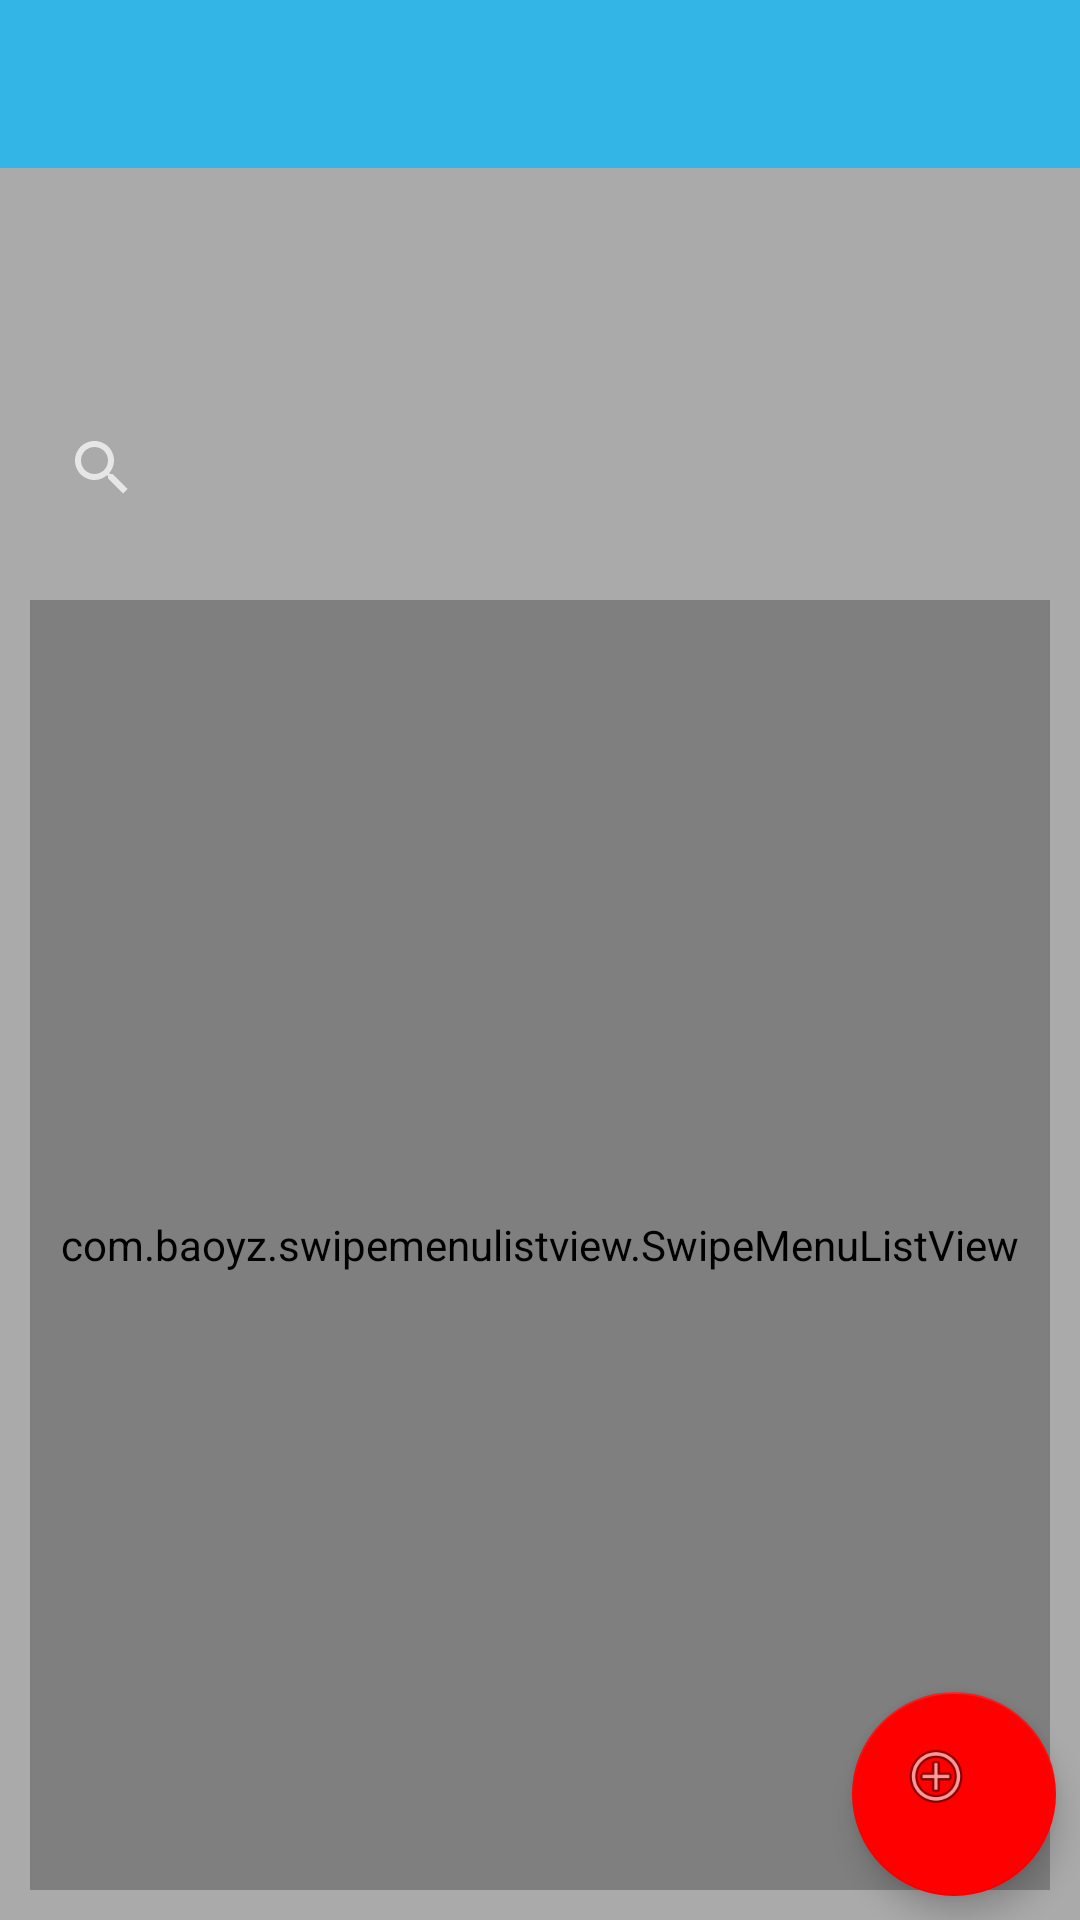

Screen size 1080x1920. Icon name, then its center in pixels as point (x, y):
add: point (954, 1794)
